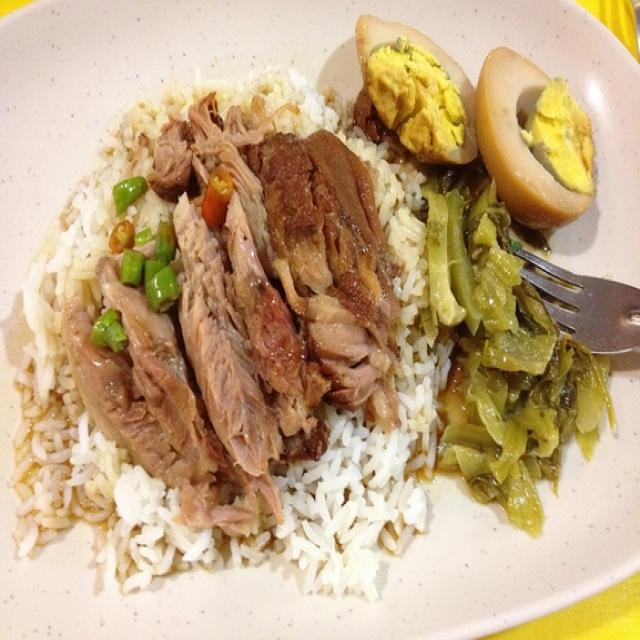猪肉菜式: (28, 15, 619, 585)
